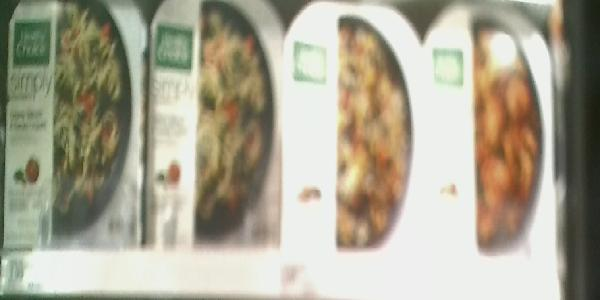pizza1: (281, 2, 425, 266), (426, 1, 558, 270), (7, 1, 139, 249), (150, 2, 279, 251)
